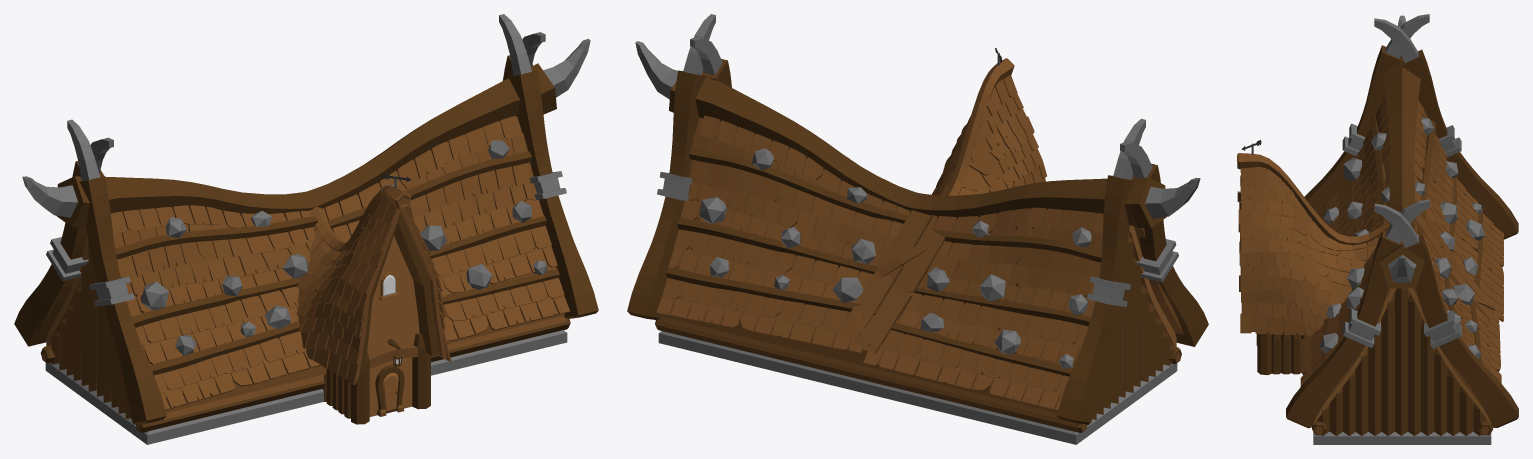
The model's file is B_LongBase.fbx.
The picture shows the model from 3 angles, left to right: view 1: azimuth 30°, elevation 25°; view 2: azimuth 150°, elevation 25°; view 3: azimuth 270°, elevation 25°; orthographic projection. The views are drawn at different scales.
Parts seen in each view (by area): view 1: B_LongBase; view 2: B_LongBase; view 3: B_LongBase.
Boxes of the visible parts, bbox=[...] form: B_LongBase: bbox=[14, 14, 598, 444]; B_LongBase: bbox=[627, 14, 1208, 444]; B_LongBase: bbox=[1237, 14, 1518, 444].
Bounding box in the file's own units: 1592 × 753 × 781.
